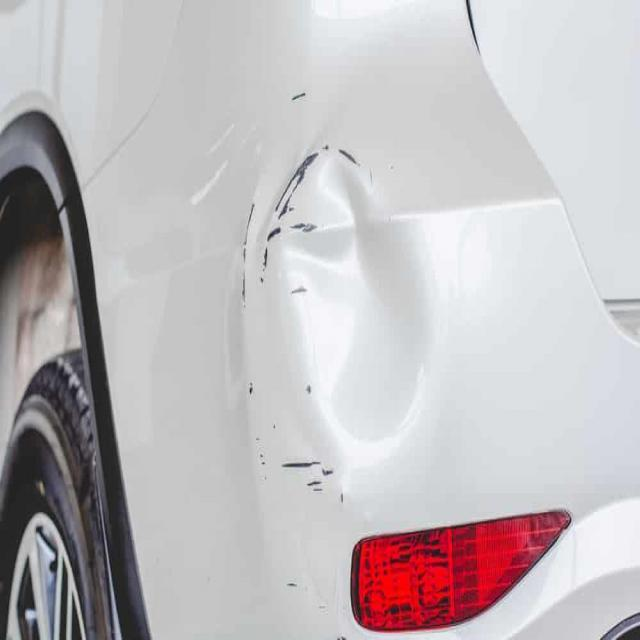dent: (232, 118, 424, 494)
